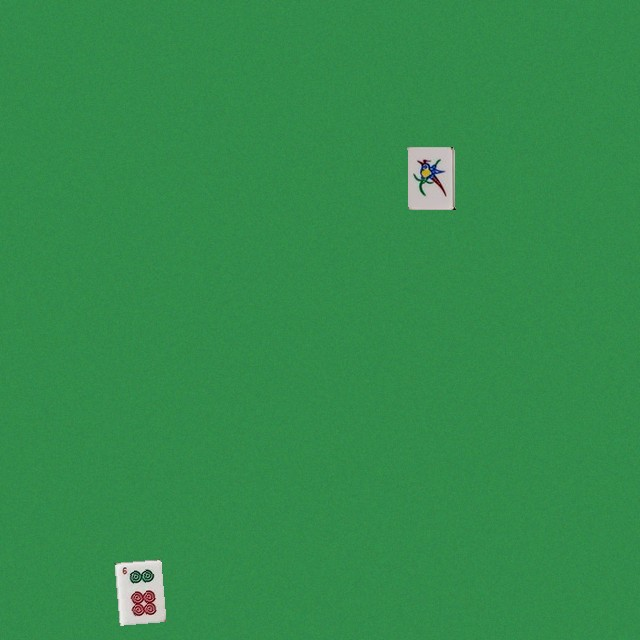tile: (114, 559, 161, 622), (407, 146, 454, 209)
